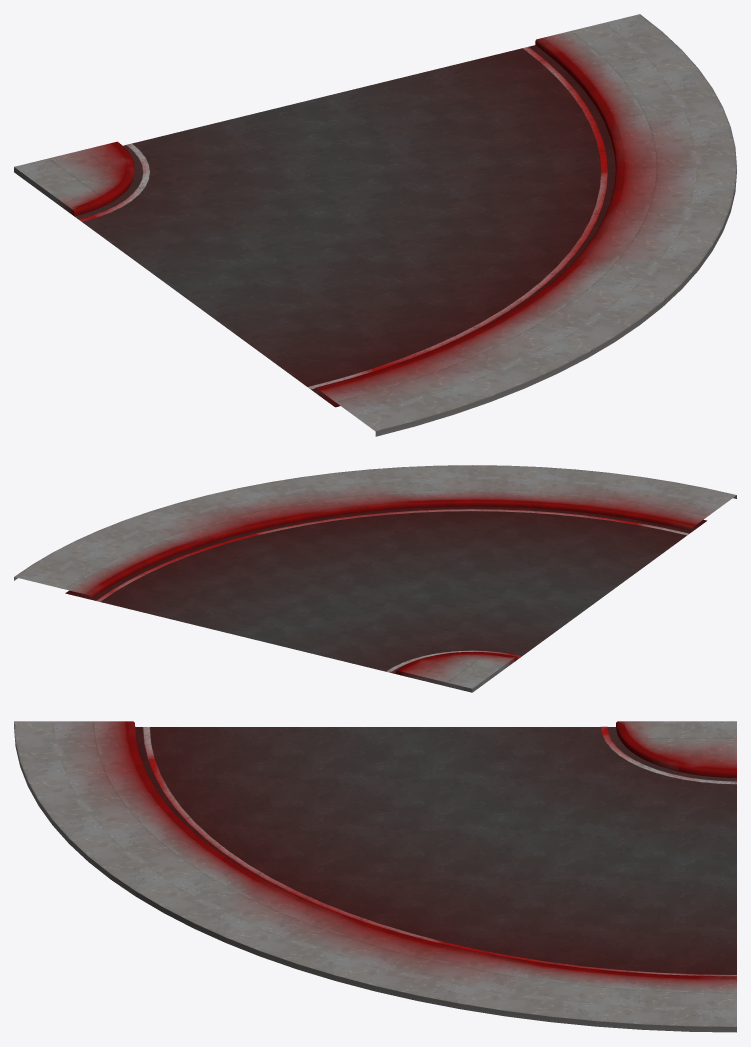
The model's file is street_curve_4laneshort.glb.
The picture shows the model from 3 angles, top to bottom: view 1: azimuth 30°, elevation 25°; view 2: azimuth 150°, elevation 25°; view 3: azimuth 270°, elevation 25°; orthographic projection. The views are drawn at different scales.
Parts seen in each view (by area): view 1: Street_Curve_4LaneShort; view 2: Street_Curve_4LaneShort; view 3: Street_Curve_4LaneShort.
Boxes of the visible parts, bbox=[...] form: Street_Curve_4LaneShort: bbox=[14, 14, 736, 436]; Street_Curve_4LaneShort: bbox=[14, 465, 736, 692]; Street_Curve_4LaneShort: bbox=[14, 721, 736, 1032].
Size of the model in its own units: 18 by 0.15 by 18.
Materials: 3 (3 with a texture image).
